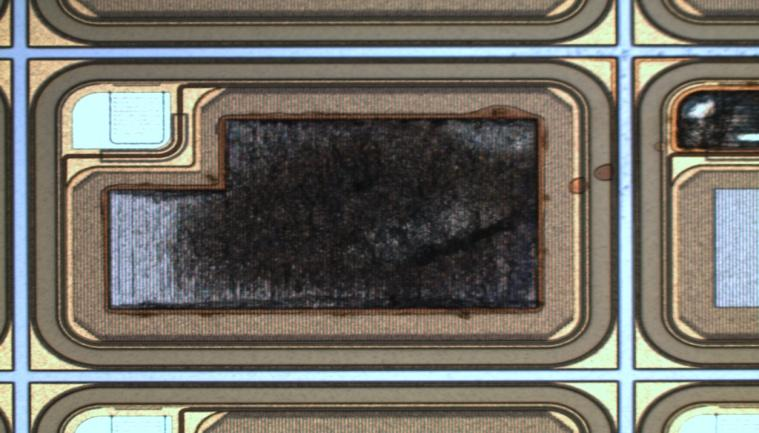SEZ BURNT: (110, 85, 759, 312)
